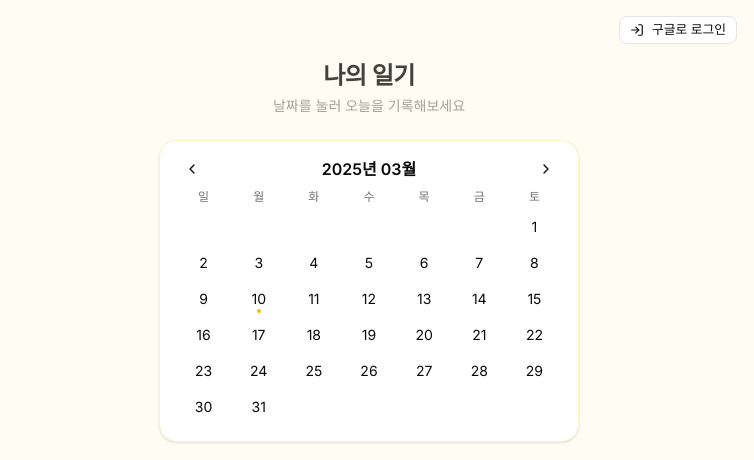
Test: DIARY-013: 일기 작성 중 저장 없이 캘린더로 이탈 › 기존 일기 편집 중 뒤로 가기를 클릭하면 기존 내용이 보존된다
// 2025-03-10 클릭
Click the button "10" at (259, 299), box [243,283,275,315]
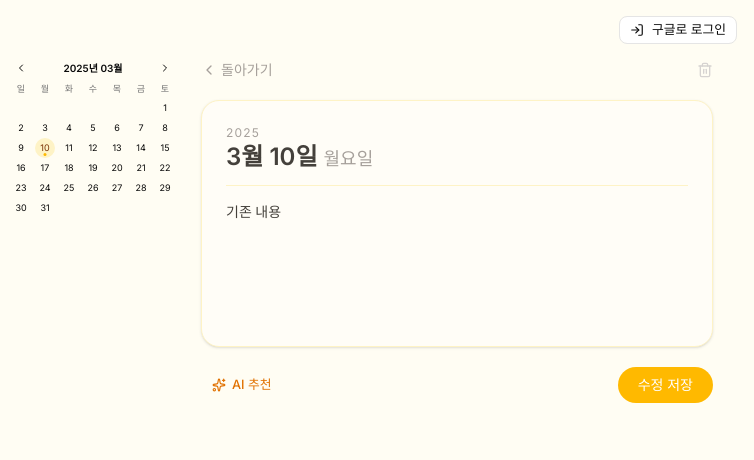
// 내용 수정 (저장 안 함)
Replace the text in the text box with "수정 중 내용" at (457, 262), box [226,202,688,322]
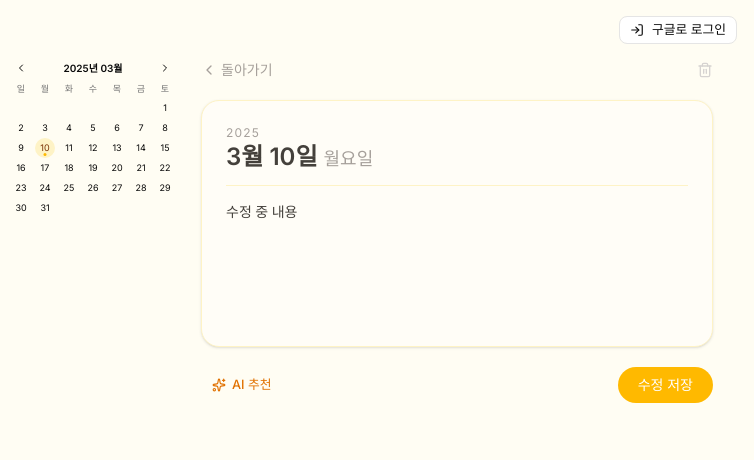
Click the button with aria-label "뒤로" at (237, 70), box [201,60,272,80]
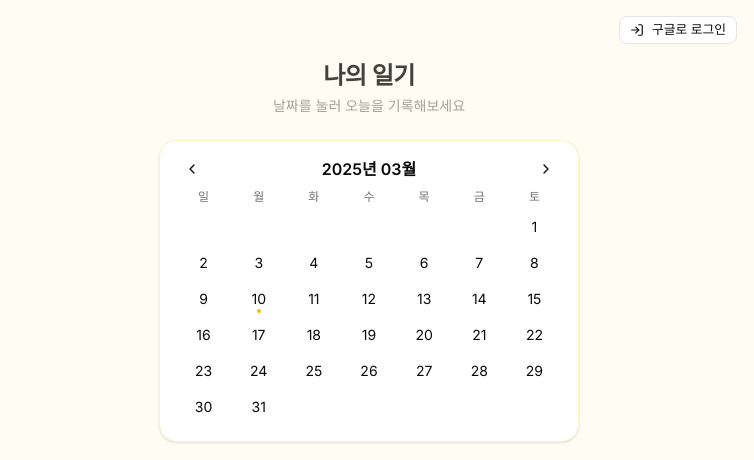
// 다시 2025-03-10 클릭하여 원본 내용 확인
Click the button "10" at (259, 299), box [243,283,275,315]
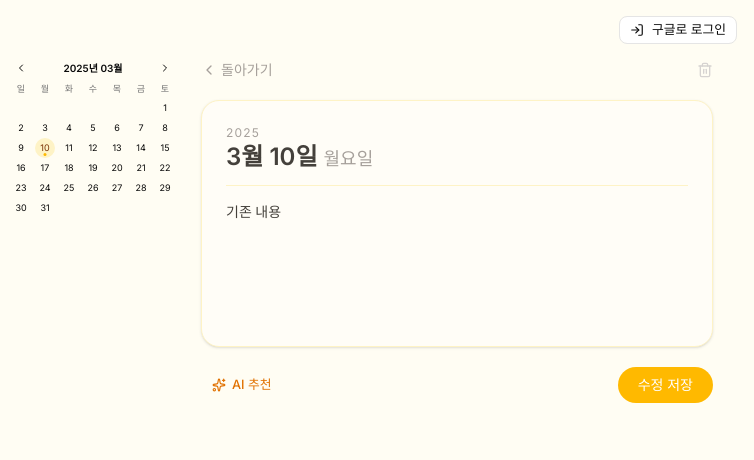
Result: the text box holds "기존 내용" at [226,202,688,322]
